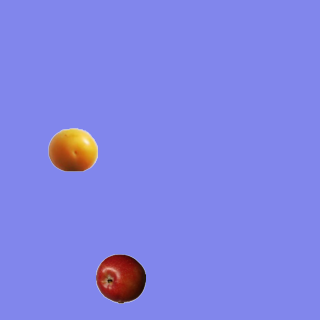Apple Braeburn: (95, 253, 145, 303)
Cherry Wax Yellow: (47, 124, 97, 174)
